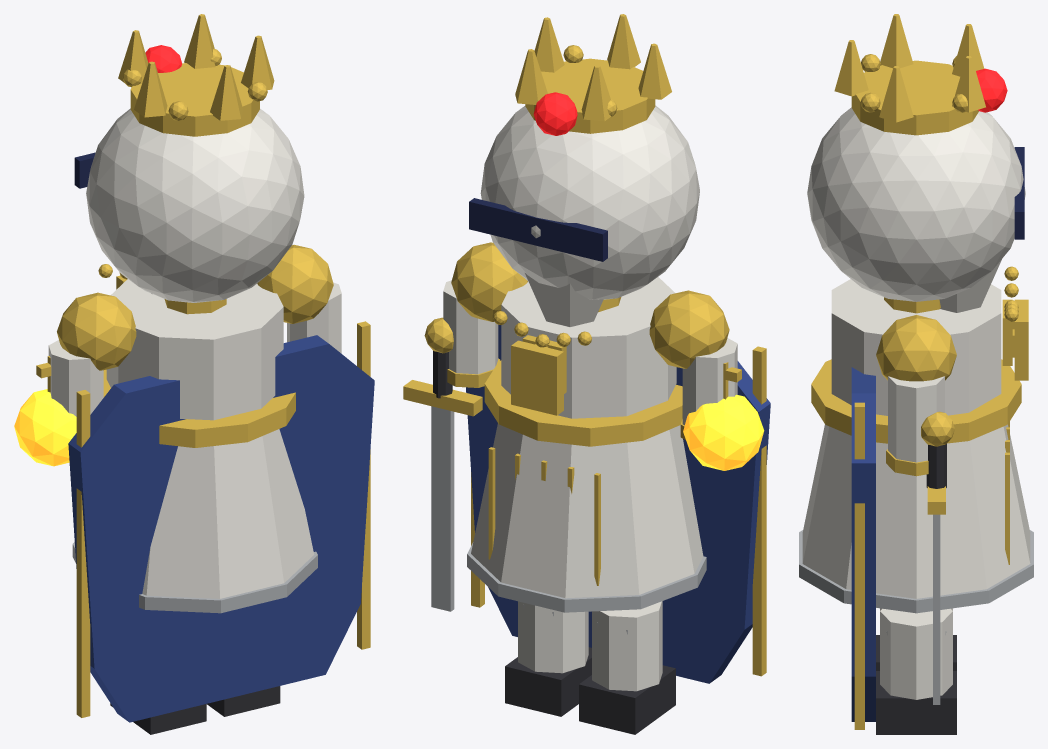
Rendered from king.glb.
3 renders of one model, left to right at view 1: azimuth 30°, elevation 25°; view 2: azimuth 150°, elevation 25°; view 3: azimuth 270°, elevation 25°, orthographic.
Visible parts, largest first — view 1: Cape, Head, Robe_Lower, Torso, Crown_Ring, Shoulder_L, Waist_Belt, Shoulder_R, Cape_Edge_L, Golden_Orb, Robe_Hem, Arm_L (+11 smaller); view 2: Robe_Lower, Head, Cape, Torso, Waist_Belt, Leg_L, Sword_Blade, Shoulder_L, Golden_Orb, Crown_Ring, Leg_R, Face_Opening (+22 smaller); view 3: Head, Robe_Lower, Torso, Cape, Leg_R, Crown_Ring, Waist_Belt, Shoulder_R, Arm_R, Robe_Hem, Foot_R, Cape_Edge_R (+17 smaller).
Part boxes in pixels (bbox=[...]): Cape: bbox=[68, 335, 374, 722]; Head: bbox=[86, 108, 304, 302]; Robe_Lower: bbox=[142, 429, 314, 598]; Torso: bbox=[106, 279, 283, 420]; Crown_Ring: bbox=[130, 63, 259, 136]; Shoulder_L: bbox=[57, 292, 136, 370]; Waist_Belt: bbox=[103, 369, 295, 447]; Shoulder_R: bbox=[257, 244, 333, 323]; Cape_Edge_L: bbox=[76, 390, 90, 717]; Golden_Orb: bbox=[14, 389, 76, 466]; Robe_Hem: bbox=[72, 542, 317, 613]; Arm_L: bbox=[48, 340, 103, 416]; Robe_Lower: bbox=[471, 423, 703, 598]; Head: bbox=[480, 105, 699, 299]; Cape: bbox=[466, 324, 770, 683]; Torso: bbox=[501, 277, 676, 418]; Waist_Belt: bbox=[484, 360, 682, 446]; Leg_L: bbox=[592, 601, 662, 691]; Sword_Blade: bbox=[431, 406, 454, 611]; Shoulder_L: bbox=[649, 290, 729, 368]; Golden_Orb: bbox=[683, 394, 764, 470]; Crown_Ring: bbox=[525, 58, 655, 133]; Leg_R: bbox=[518, 601, 588, 673]; Face_Opening: bbox=[469, 198, 607, 261]; Head: bbox=[807, 107, 1025, 301]; Robe_Lower: bbox=[802, 424, 1030, 598]; Torso: bbox=[831, 279, 1001, 415]; Cape: bbox=[851, 367, 875, 721]; Leg_R: bbox=[880, 608, 952, 699]; Crown_Ring: bbox=[851, 60, 978, 135]; Waist_Belt: bbox=[811, 359, 1021, 443]; Shoulder_R: bbox=[876, 315, 956, 381]; Arm_R: bbox=[888, 376, 944, 462]; Robe_Hem: bbox=[799, 530, 1033, 613]; Foot_R: bbox=[876, 671, 956, 734]; Cape_Edge_R: bbox=[854, 402, 864, 729].
Size of the model in its own units: 1.13 by 2.08 by 0.6685.
